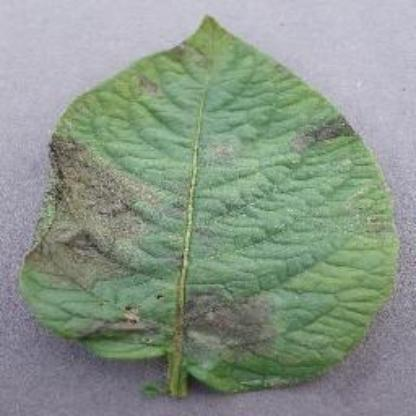Late-Blight: (16, 5, 408, 384)
